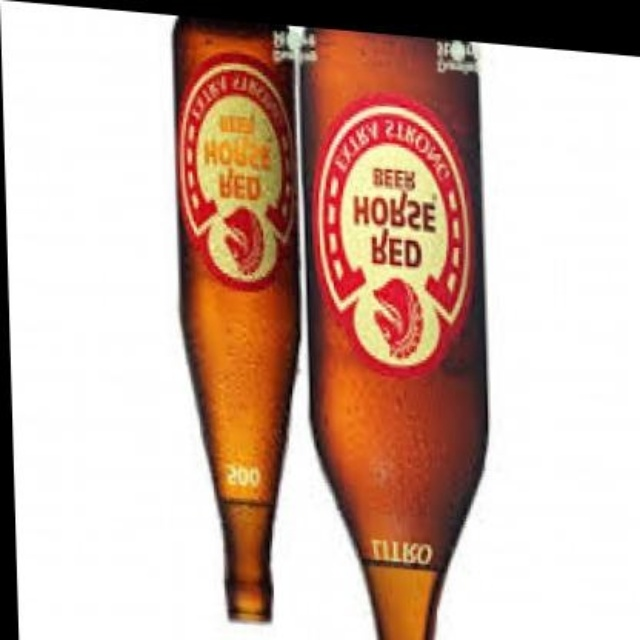trash: (303, 31, 486, 638), (175, 22, 297, 620)
